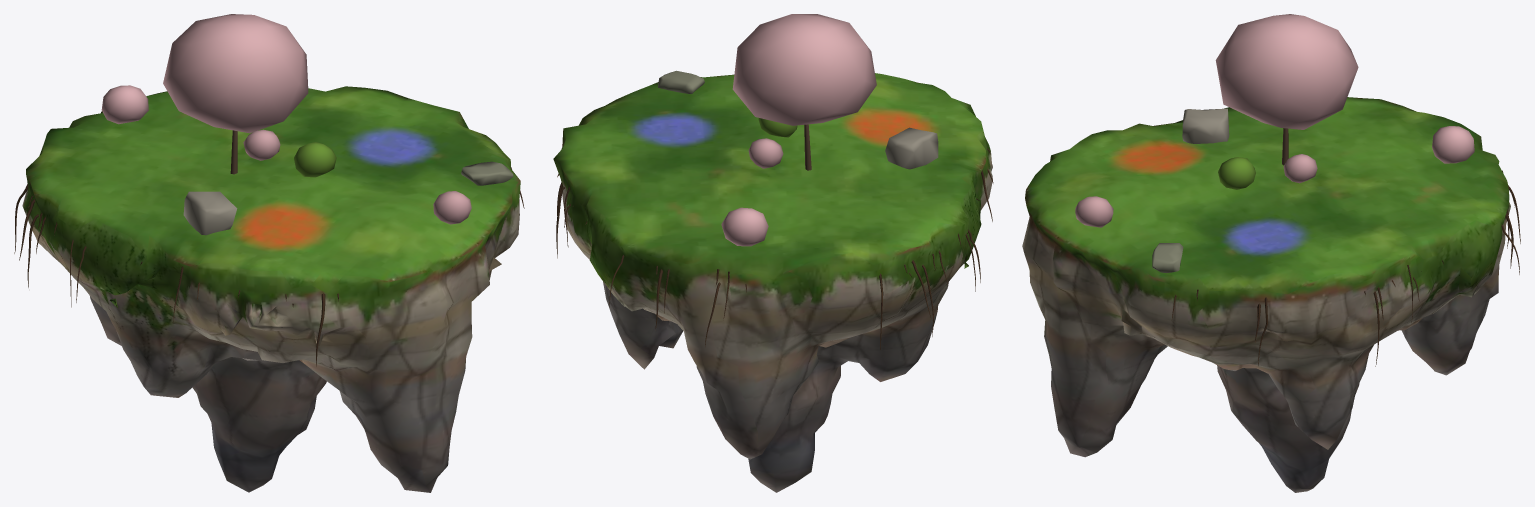
File: island-blossom-lod1.glb
The picture shows the model from 3 angles, left to right: view 1: azimuth 30°, elevation 25°; view 2: azimuth 150°, elevation 25°; view 3: azimuth 270°, elevation 25°; orthographic projection. The views are drawn at different scales.
Visible parts, largest first — view 1: Terrain, Detail; view 2: Terrain, Detail; view 3: Terrain, Detail.
Part boxes in pixels (<box>): Terrain: <box>22,86,520,492</box>; Detail: <box>14,14,524,366</box>; Terrain: <box>553,73,992,492</box>; Detail: <box>556,14,993,349</box>; Terrain: <box>1022,97,1510,492</box>; Detail: <box>1075,14,1520,366</box>.
Bounding box in the file's own units: 22.09 × 24.2 × 23.82.
2 materials, 1 textured.
